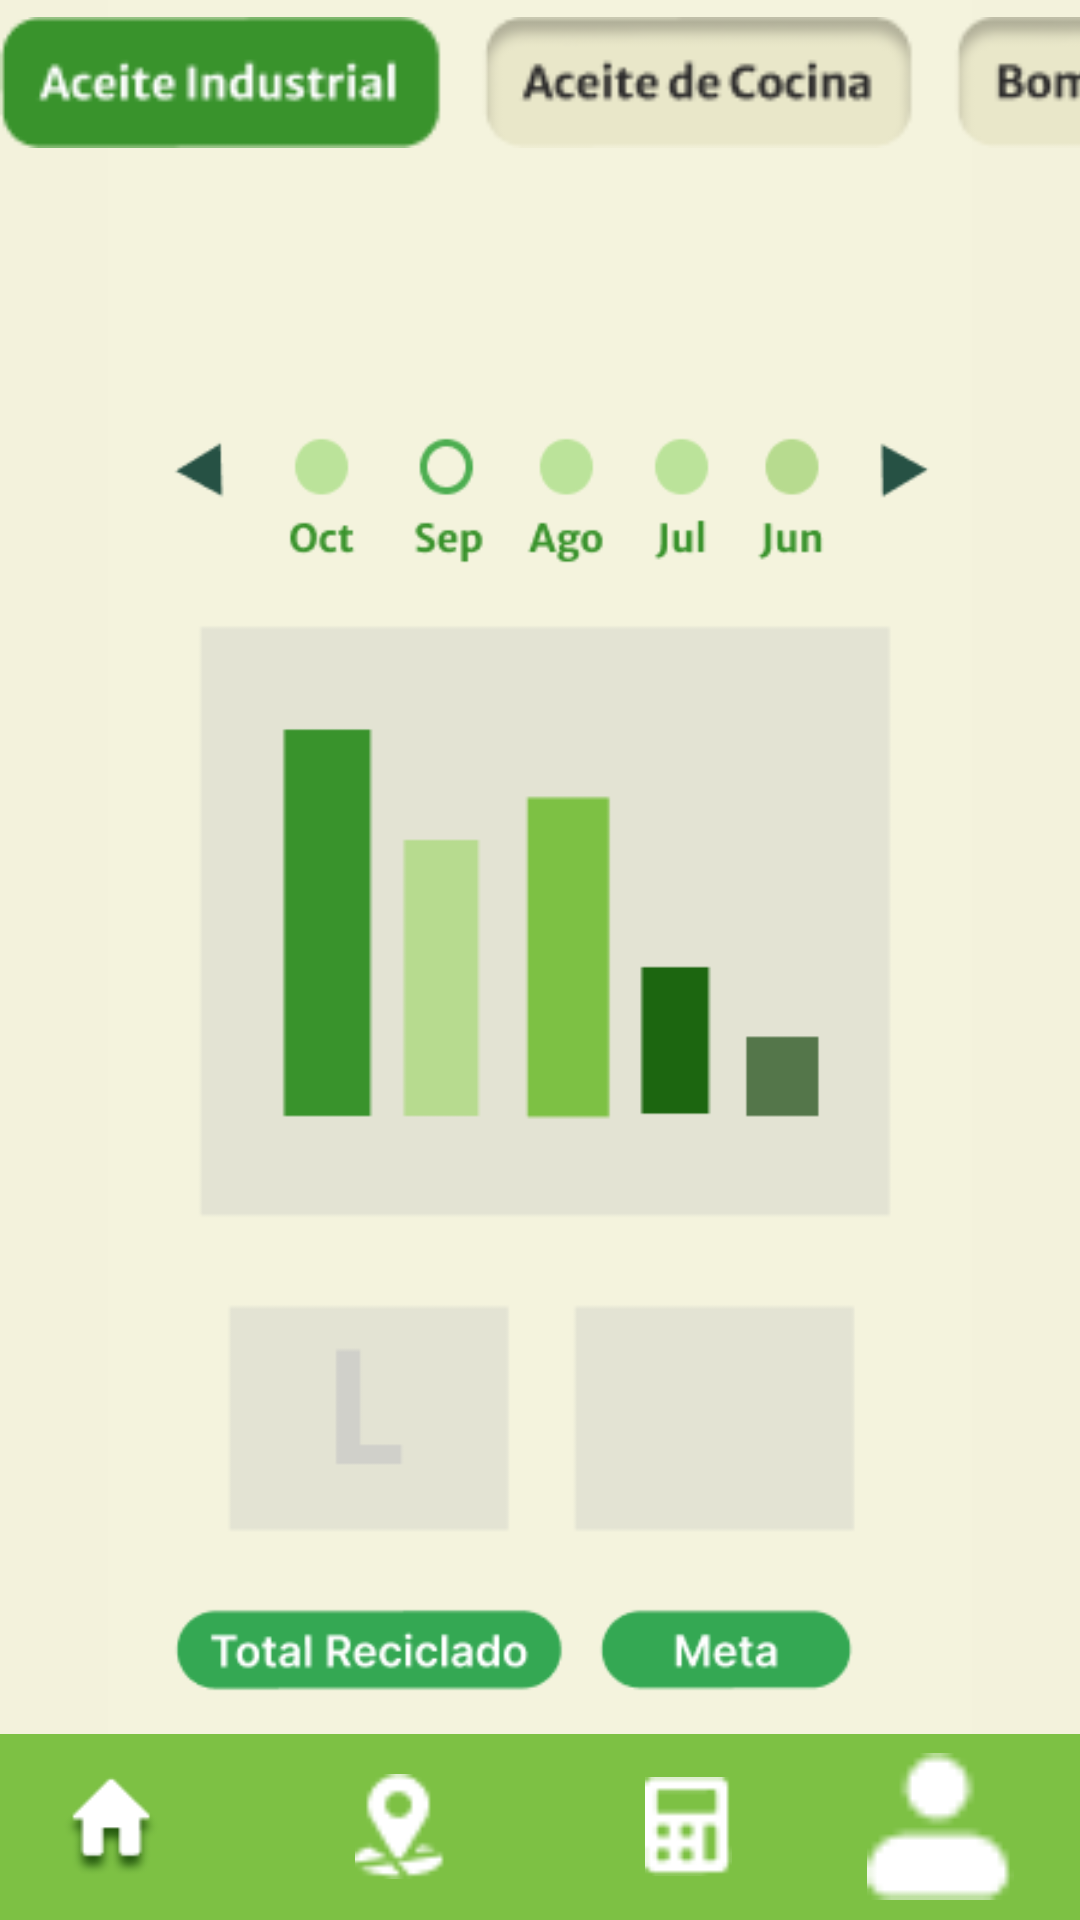

Icons on this 1080w x 1920h Android screen, each with the point to tap as point (x, y):
calculator: point (687, 1825)
